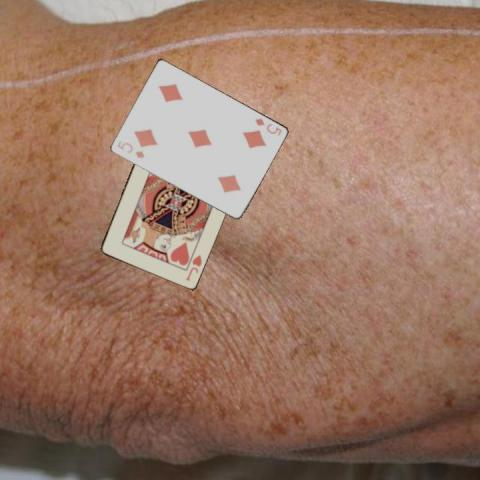5d: (251, 116, 283, 138), (114, 138, 146, 159)
Jh: (183, 251, 203, 282)
